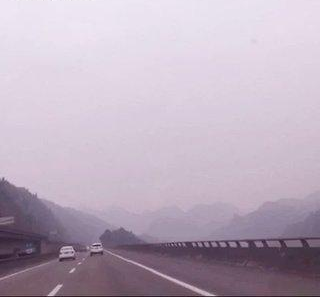car: (58, 246, 77, 261), (89, 242, 103, 256)
